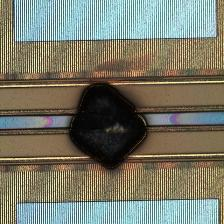PARTICLE: (62, 80, 153, 178)
